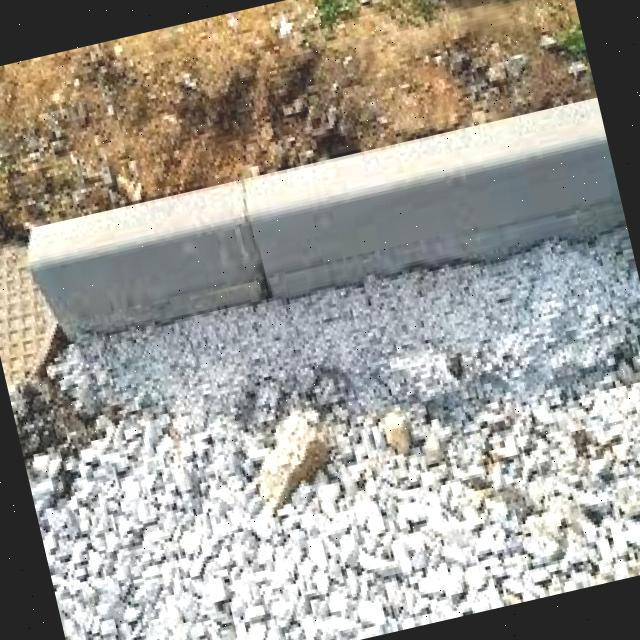curb: (20, 101, 628, 360)
